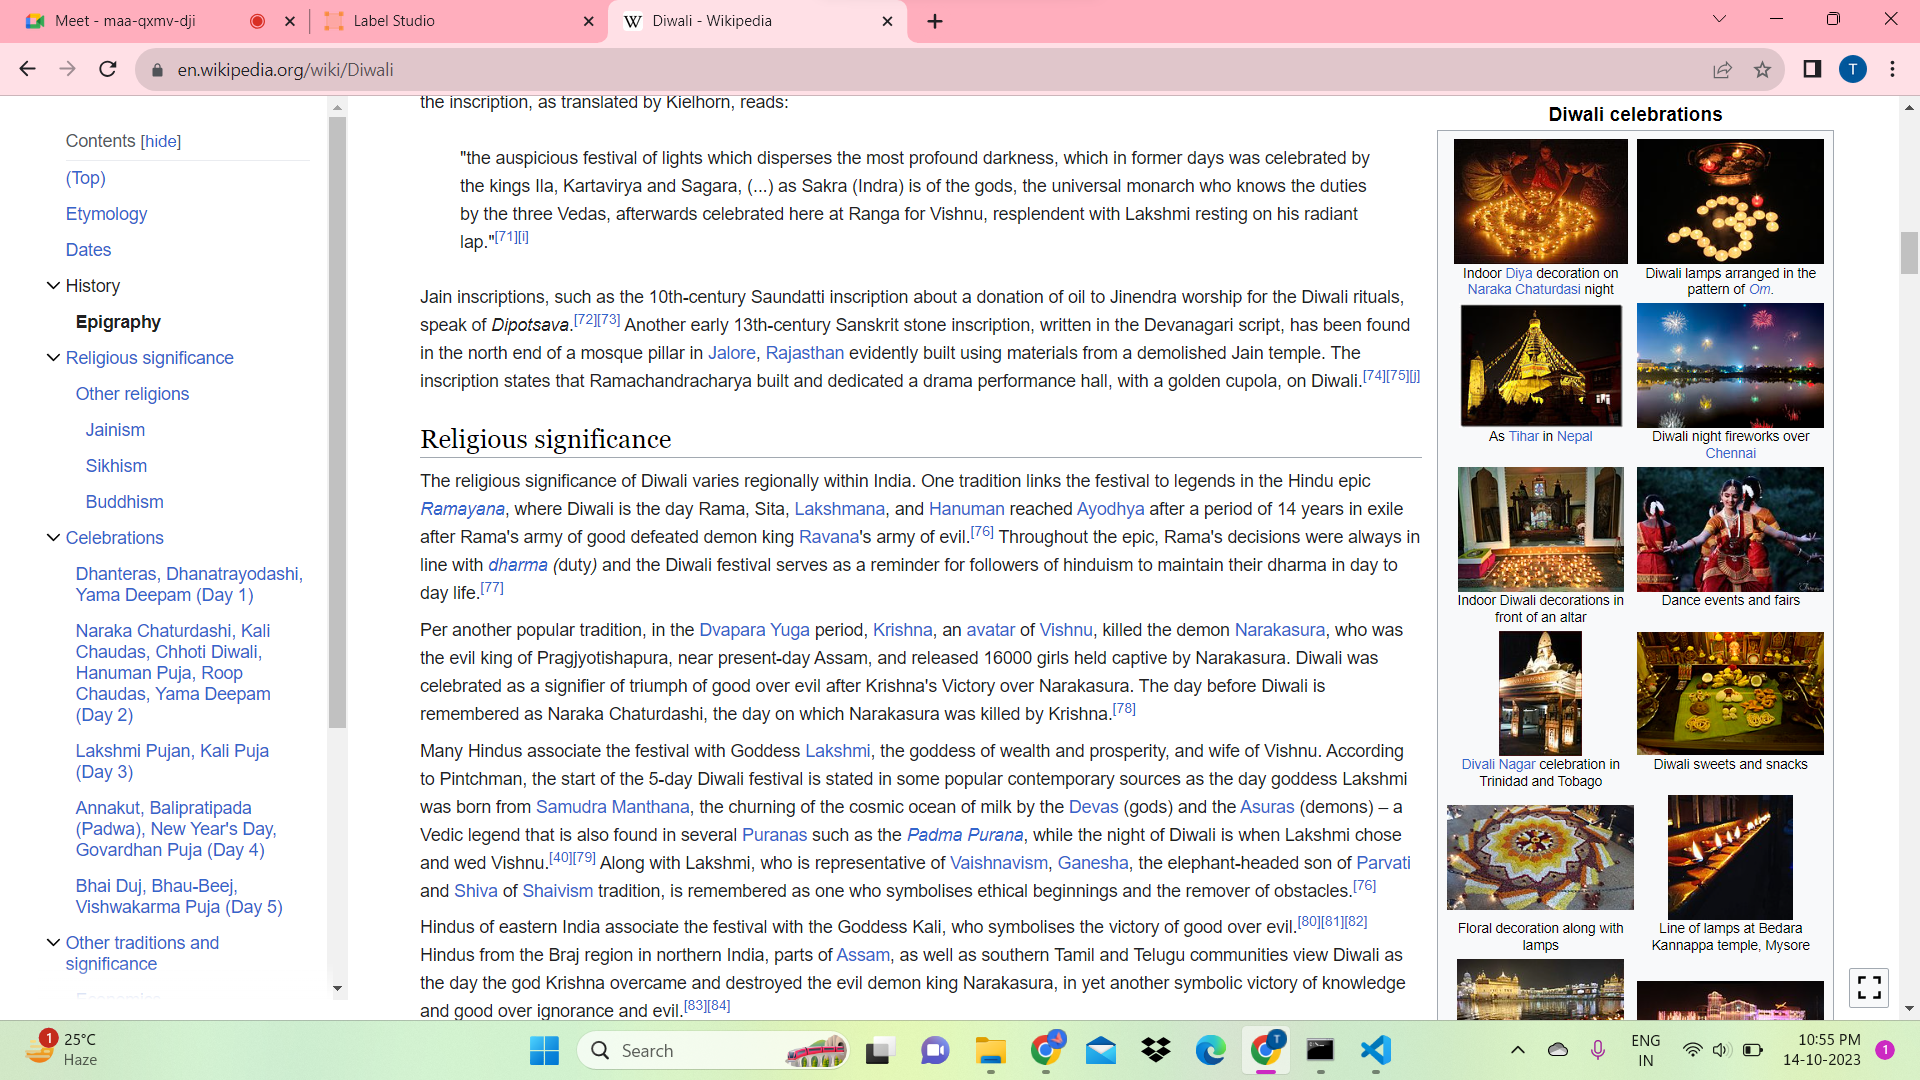Image: (1629, 625, 1828, 760), (1633, 132, 1828, 269), (1629, 298, 1825, 430), (1455, 462, 1635, 596), (1448, 133, 1627, 265), (1449, 295, 1625, 430), (1639, 462, 1821, 591), (1441, 798, 1638, 910), (1476, 624, 1604, 757), (1662, 798, 1799, 913)
Paragraph: (417, 740, 1400, 906), (410, 276, 1425, 406), (421, 468, 1424, 600), (414, 611, 1424, 732), (434, 129, 1371, 252), (397, 909, 1414, 1018), (58, 345, 299, 553), (51, 796, 330, 923), (67, 615, 316, 732), (61, 737, 299, 798), (69, 556, 322, 608), (411, 418, 679, 462), (58, 927, 258, 981), (57, 164, 153, 264), (65, 265, 179, 336), (57, 116, 203, 160)
